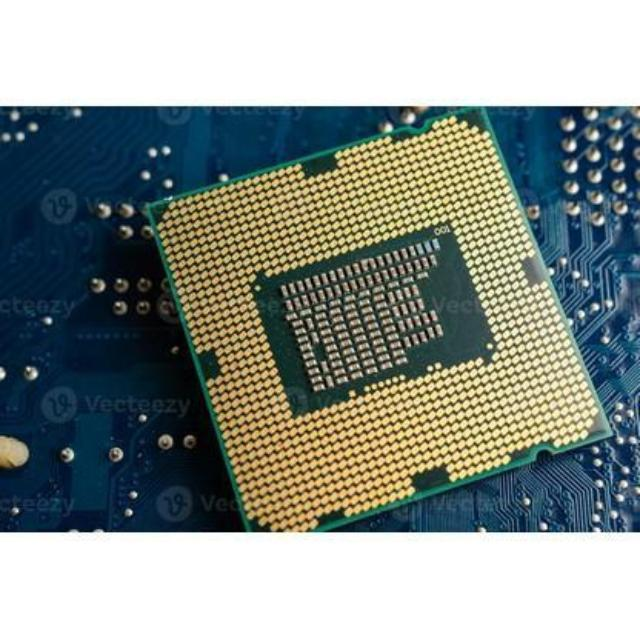CPU: (136, 111, 602, 544)
